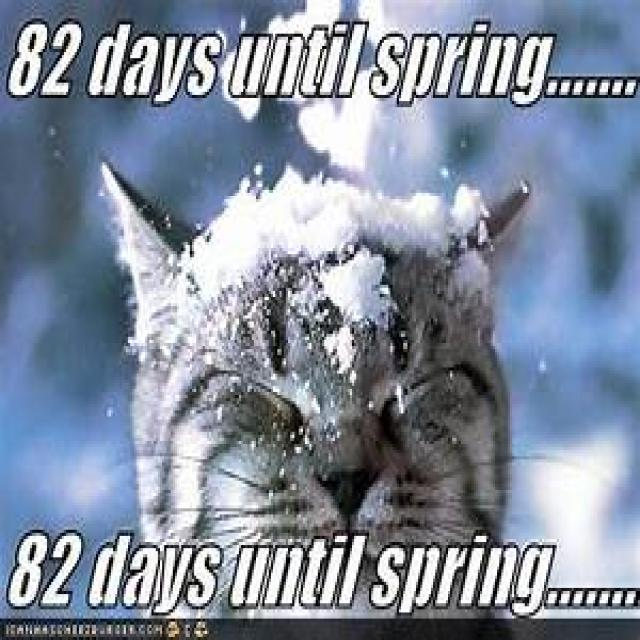animal: (99, 166, 531, 617)
